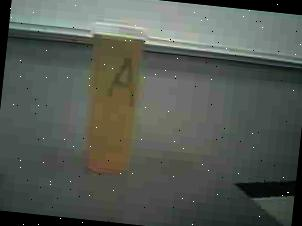Bottle A: (68, 12, 164, 185)
